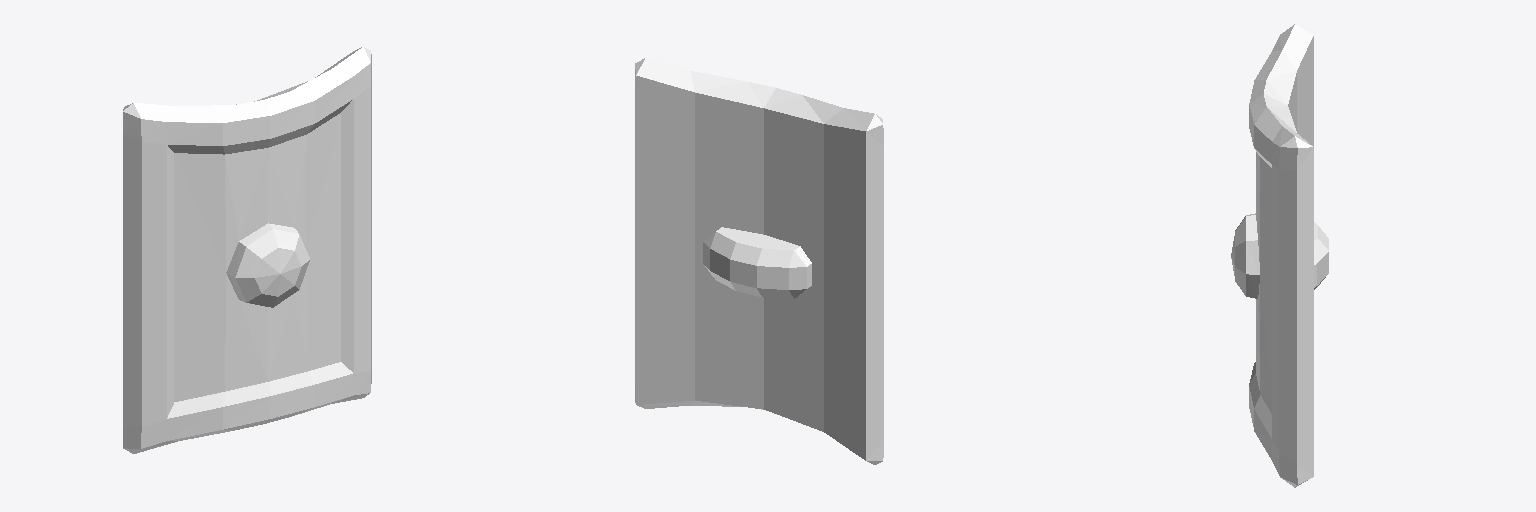
Rendered from shield_square_color.obj.
3 renders of one model, left to right at view 1: azimuth 30°, elevation 25°; view 2: azimuth 150°, elevation 25°; view 3: azimuth 270°, elevation 25°, orthographic.
Visible parts, largest first — view 1: shield_square_color; view 2: shield_square_color; view 3: shield_square_color.
Boxes of the visible parts, x1,y1,x2,y2 form: shield_square_color: [123, 47, 371, 453]; shield_square_color: [635, 58, 883, 464]; shield_square_color: [1231, 24, 1328, 487].
Size of the model in its own units: 0.8826 by 1.19 by 0.3011.